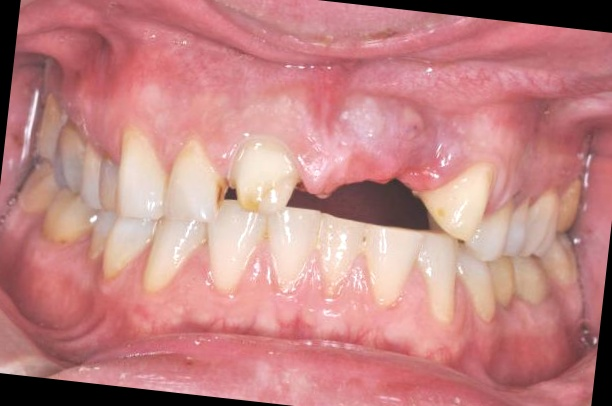Gingivitis: (177, 301, 429, 357), (486, 318, 569, 380), (389, 109, 446, 175), (299, 67, 357, 123)
